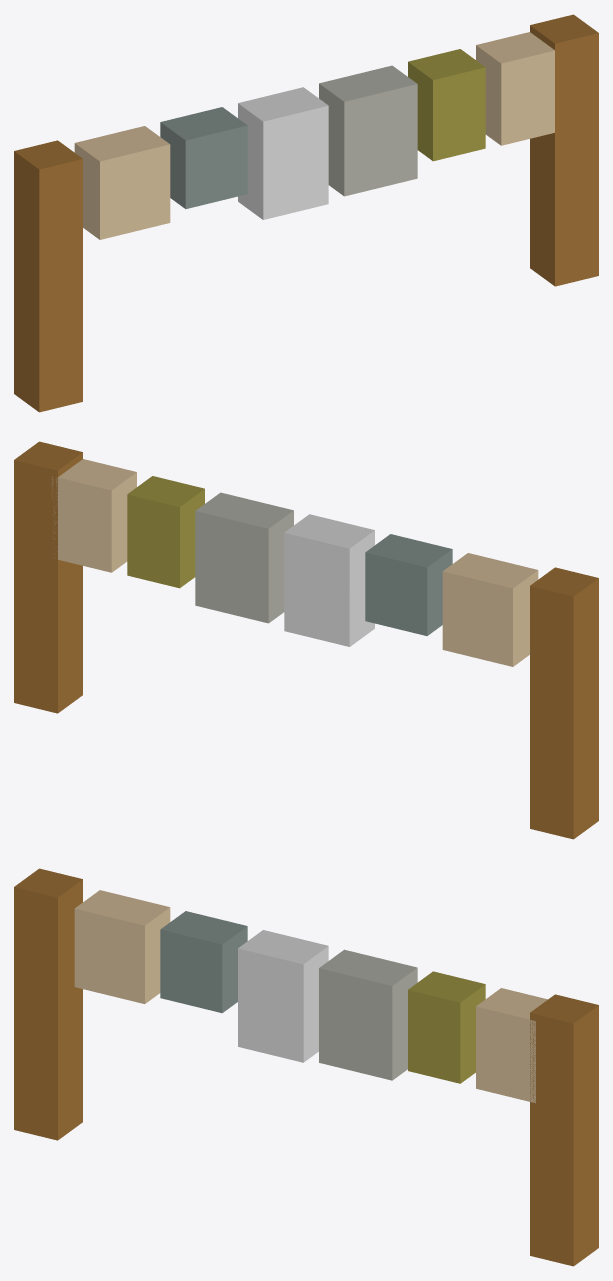
File: SM_Tendedero_v0_Cuerda_LOD1.fbx
3 views of the same model, one above another, from view 1: azimuth 30°, elevation 25°; view 2: azimuth 150°, elevation 25°; view 3: azimuth 330°, elevation 25° (orthographic).
Parts seen in each view (by area): view 1: SM_vida_fuerte_v5_LOD1; view 2: SM_vida_fuerte_v5_LOD1; view 3: SM_vida_fuerte_v5_LOD1.
Part boxes in pixels (x1,y1,x2,y2): SM_vida_fuerte_v5_LOD1: (14,14,598,412); SM_vida_fuerte_v5_LOD1: (14,441,598,839); SM_vida_fuerte_v5_LOD1: (14,868,598,1266).
Size of the model in its own units: 4.34 by 1.8 by 0.34.
